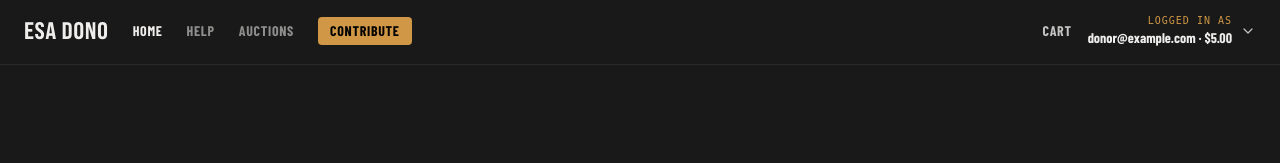
Navbar › combines wallet/logout into a user dropdown for a plain USER donor, hiding moderate/admin
The width and height of the screenshot is (1280, 163).
Expected: the text "wallet" is not shown
Click the text "donor@example.com · $5.00".
click(1160, 38)  # box [1088, 28, 1232, 48]
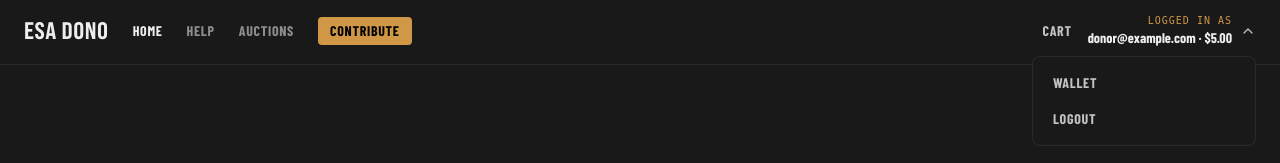
Now the link "wallet" is shown, box [1053, 74, 1097, 90]
Now the button "logout" is shown, box [1041, 100, 1247, 136]
